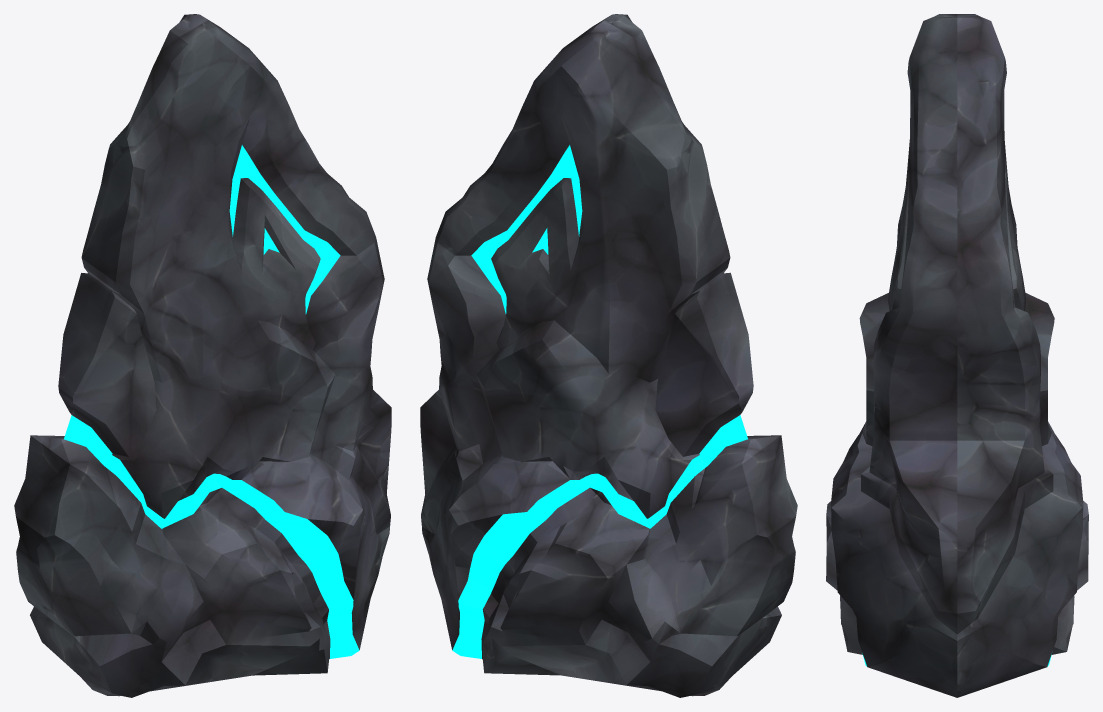
Rendered from Stone_09.gltf.
3 views of the same model, side by side, from view 1: azimuth 30°, elevation 25°; view 2: azimuth 150°, elevation 25°; view 3: azimuth 270°, elevation 25° (orthographic). The views are drawn at different scales.
Visible parts, largest first — view 1: Stone_09(Clone); view 2: Stone_09(Clone); view 3: Stone_09(Clone).
Boxes of the visible parts, bbox=[...] form: Stone_09(Clone): bbox=[14, 14, 391, 697]; Stone_09(Clone): bbox=[420, 14, 797, 697]; Stone_09(Clone): bbox=[826, 14, 1088, 697].
Bounding box in the file's own units: 1.8 × 3.1 × 1.17.
2 materials, 1 textured.
